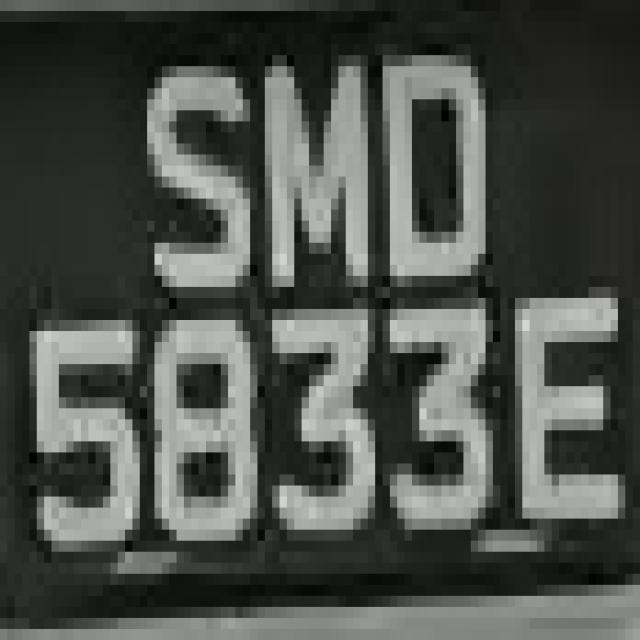3: (375, 276, 493, 563), (272, 265, 383, 541)
5: (22, 287, 147, 574)
8: (155, 287, 272, 552)
D: (375, 33, 493, 320)
E: (508, 265, 625, 552)
M: (250, 33, 383, 309)
S: (125, 33, 250, 320)
